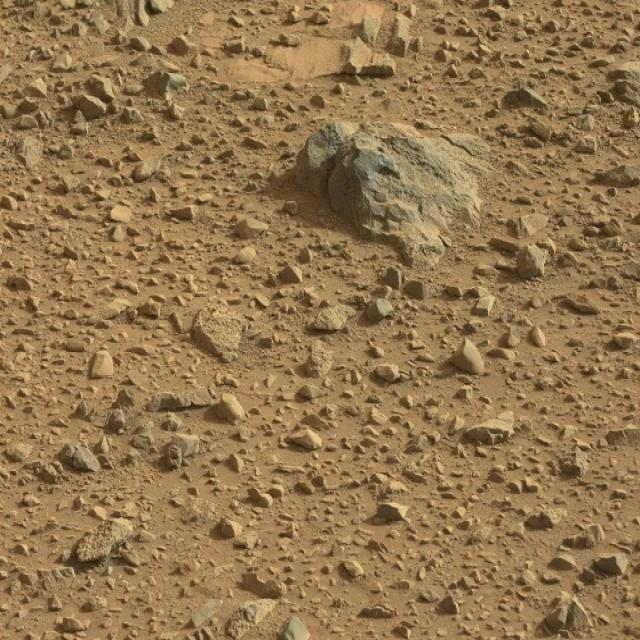rock: (291, 120, 491, 249)
